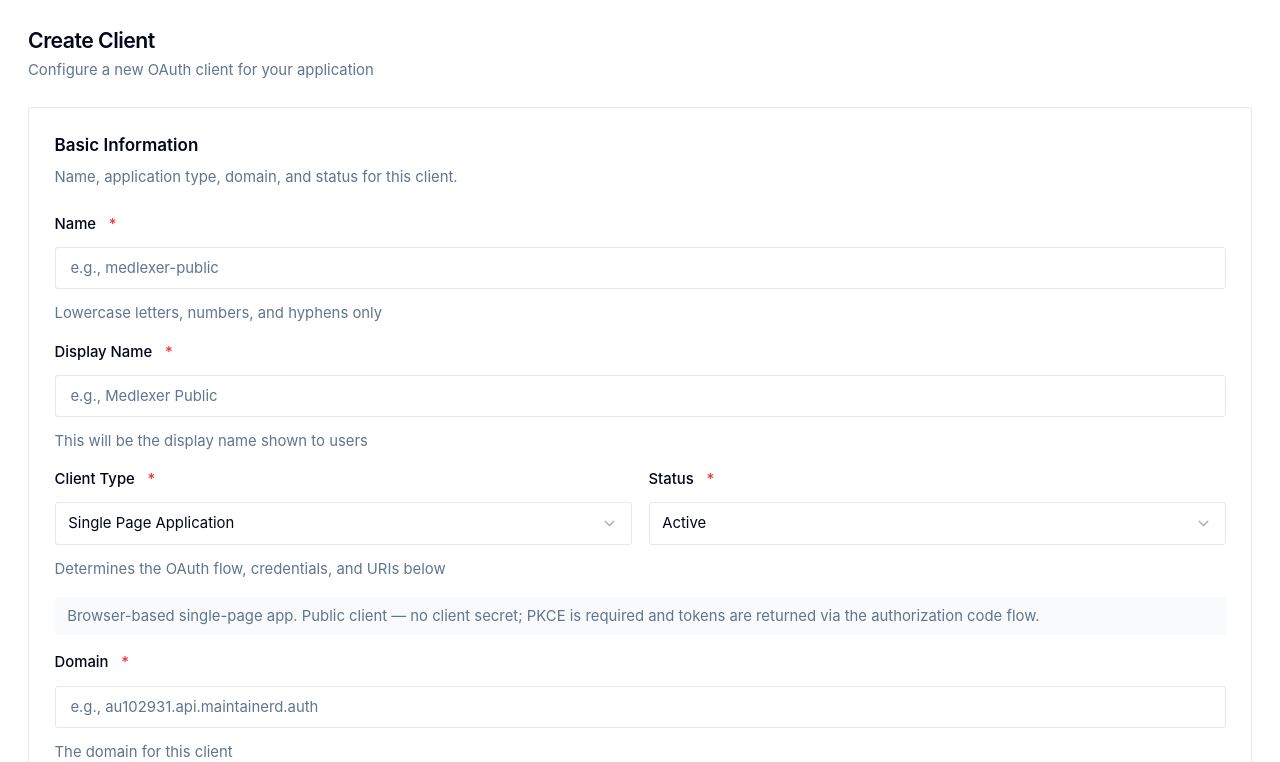
Scenario: ClientAddOrUpdateForm › keyword-maps unstructured server errors onto a field
In the field labelled "Name *": (640, 268) [54,247,1226,290], type "my-client"
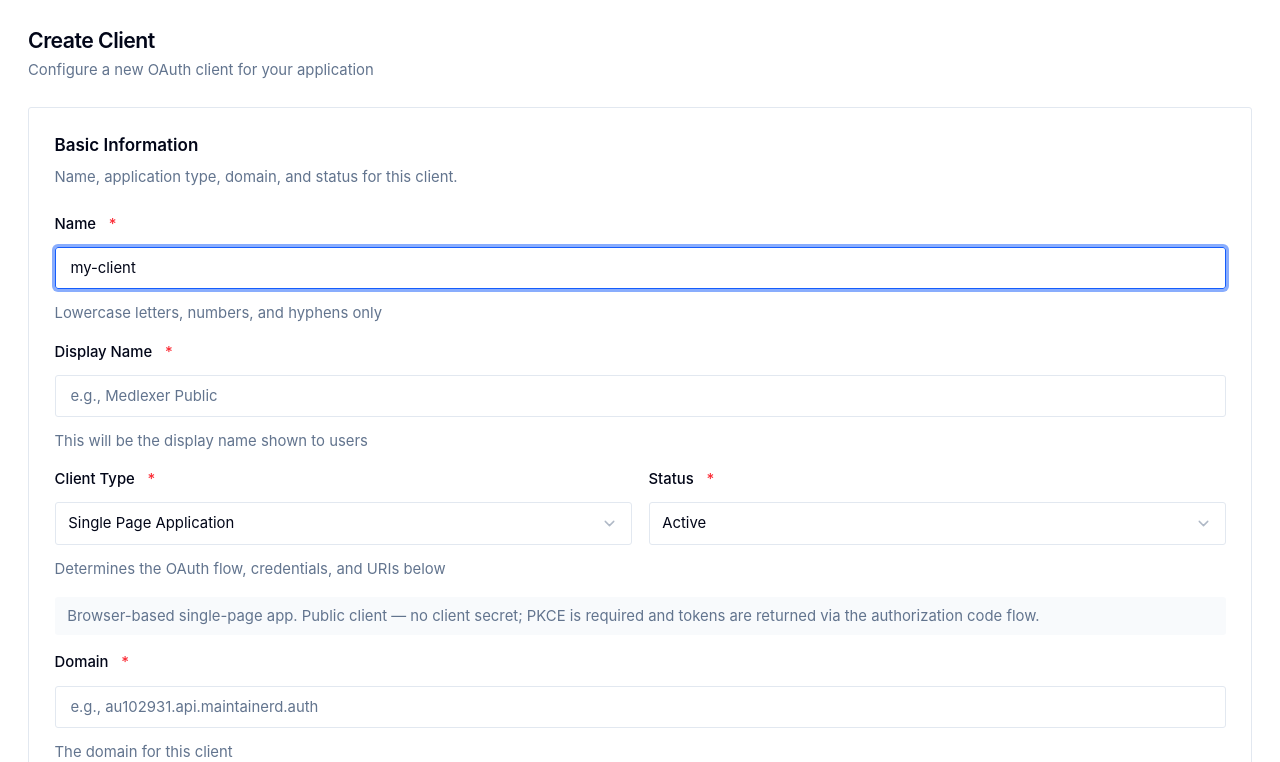
In the field labelled "Display Name *": (640, 396) [54,375,1226,417], type "My Client App"
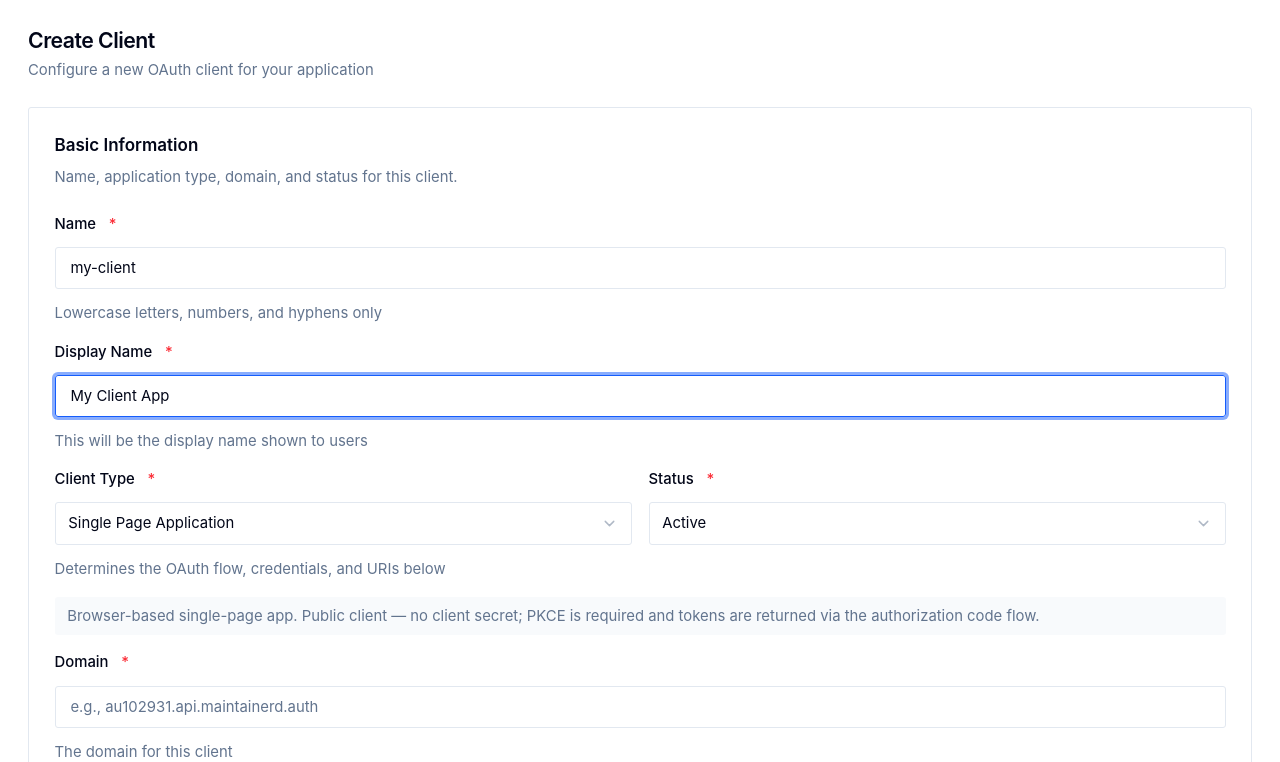
In the field labelled "Domain *": (640, 707) [54,686,1226,728], type "app.example.com"
(page scrolled)
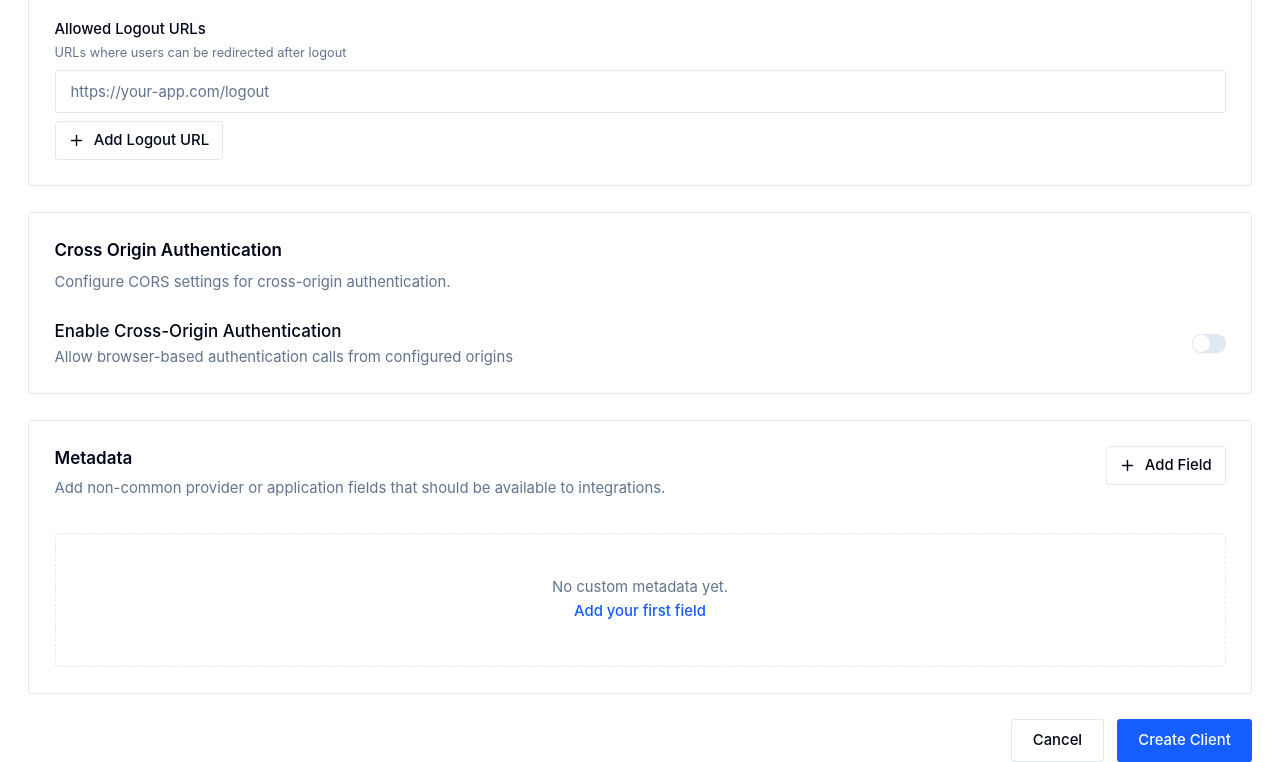
Click the button "Create Client": (1185, 740) [1117,719,1252,761]
(page scrolled)
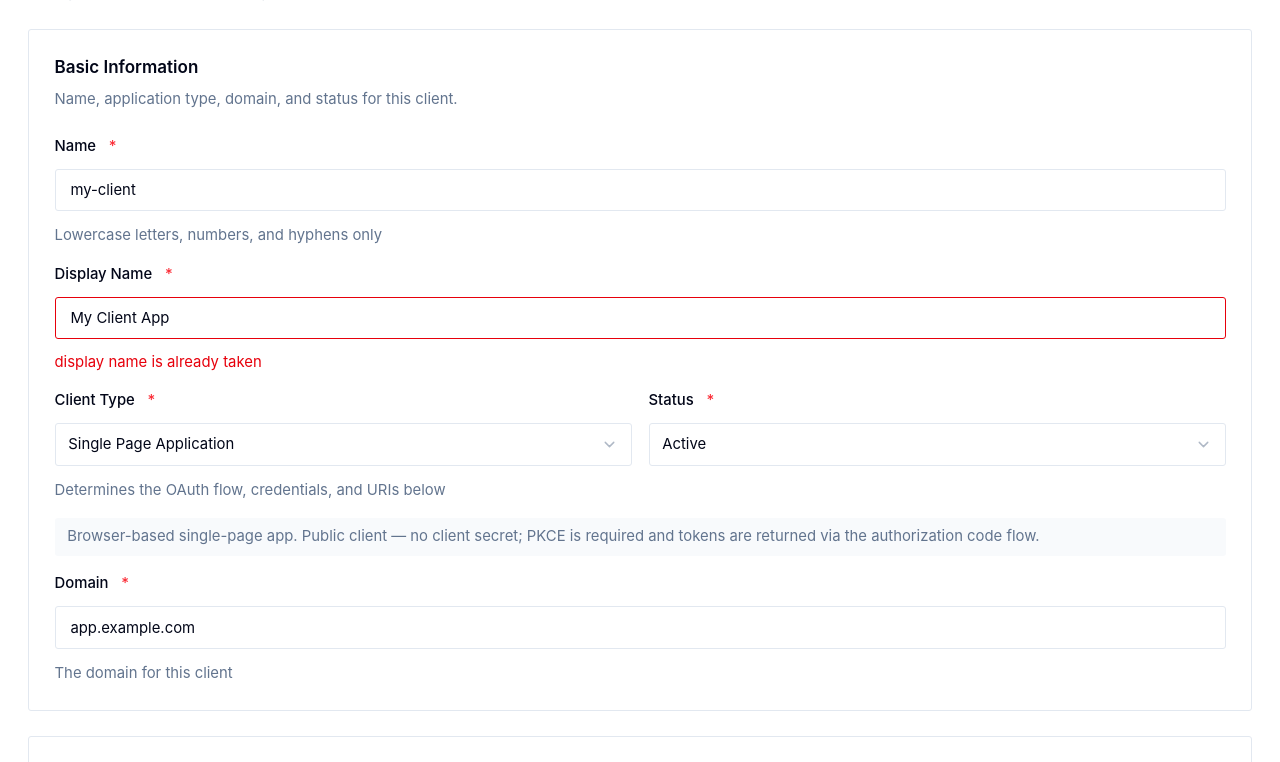
Check: the text "display name is already taken" is shown, box [54,353,262,371]
